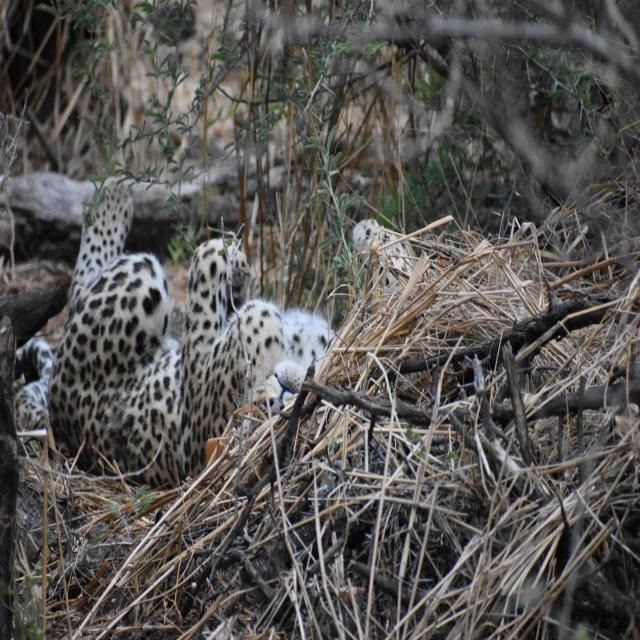Leopard: (27, 189, 344, 477)
